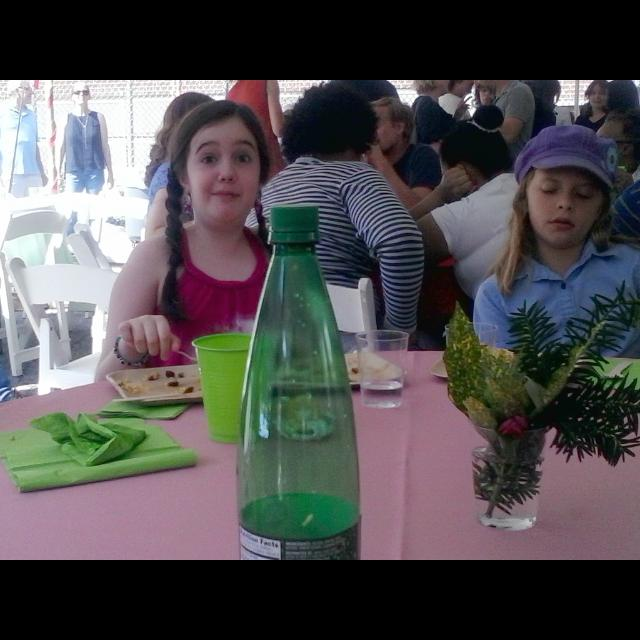Flower: (498, 415, 532, 441)
